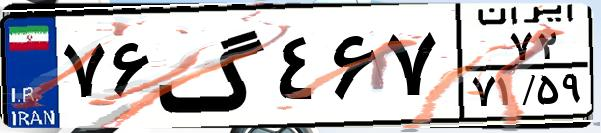1: (495, 70, 520, 125)
2: (537, 27, 568, 80)
4: (270, 28, 330, 110)
5: (535, 70, 560, 125)
6: (330, 28, 385, 110), (110, 28, 156, 98)
7: (385, 28, 445, 110), (57, 26, 110, 100), (508, 27, 537, 80), (470, 70, 495, 125)
9: (560, 70, 590, 125)
گ: (156, 12, 270, 120)
